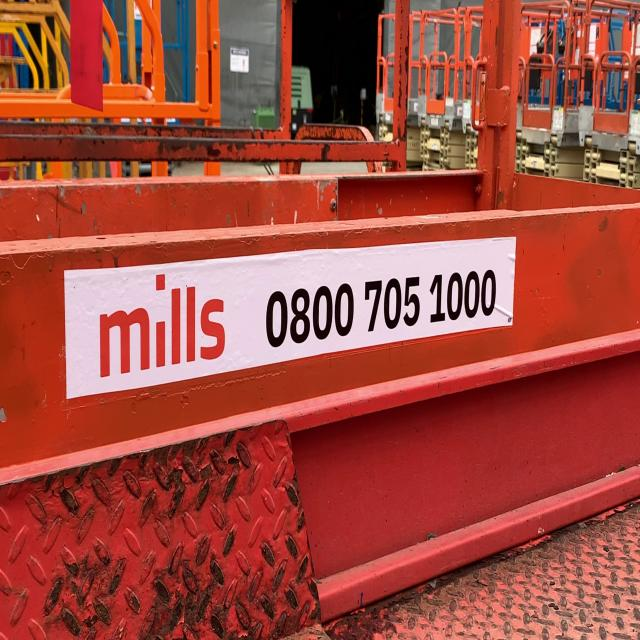Adesivo Longo: (60, 228, 519, 409)
